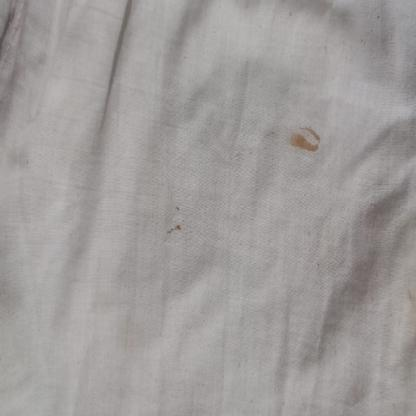spot: (269, 124, 332, 160), (166, 199, 190, 248)
